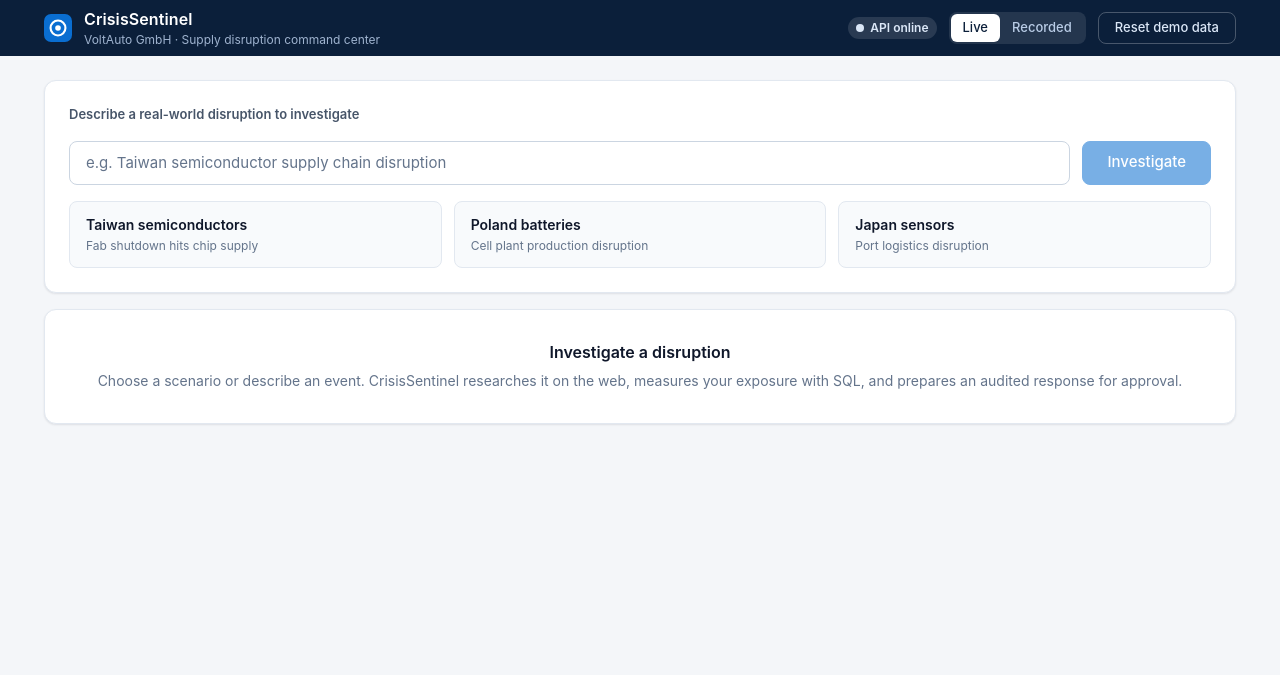
it: CrisisSentinel UI › approves exactly the plan's reroute actions, each as a (po, supplier) pair
Click the button "Recorded": coordinates (1042, 28) [1000,14,1084,42]
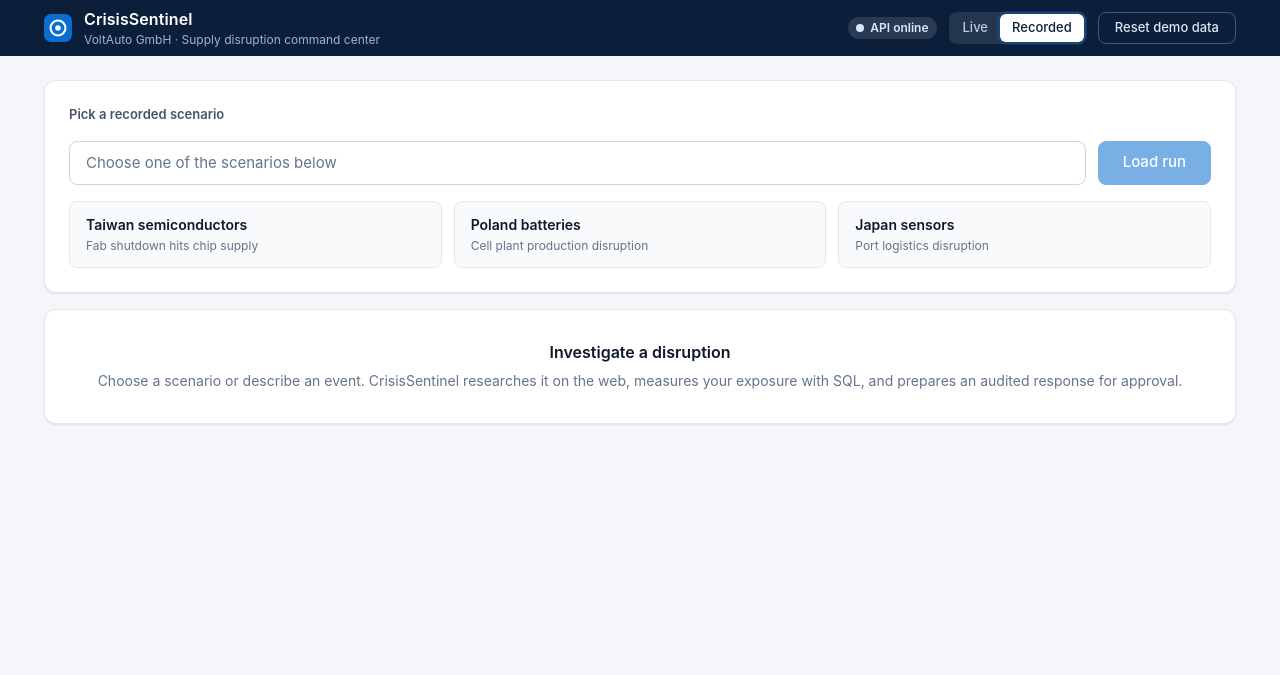
Click the button "Taiwan semiconductors Fab shutdown hits chip supply": coordinates (167, 224) [69,200,442,268]
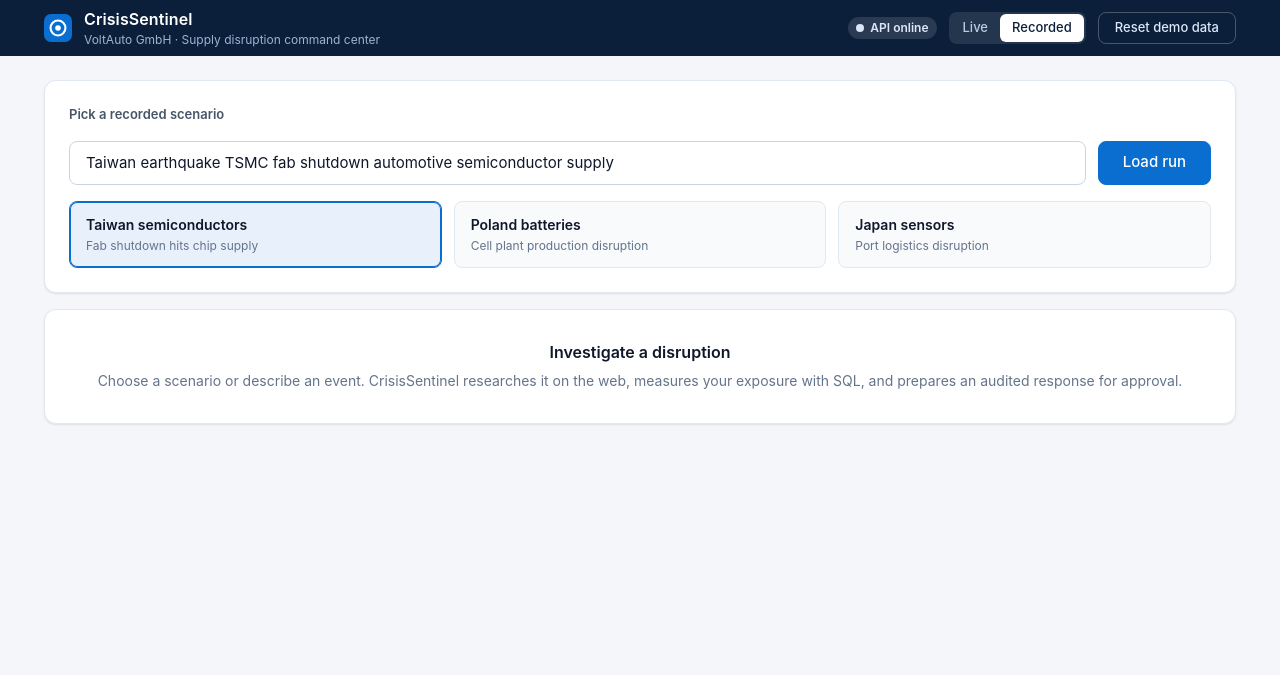
Click the button "Load run": coordinates (1154, 162) [1098,140,1211,184]
(page scrolled)
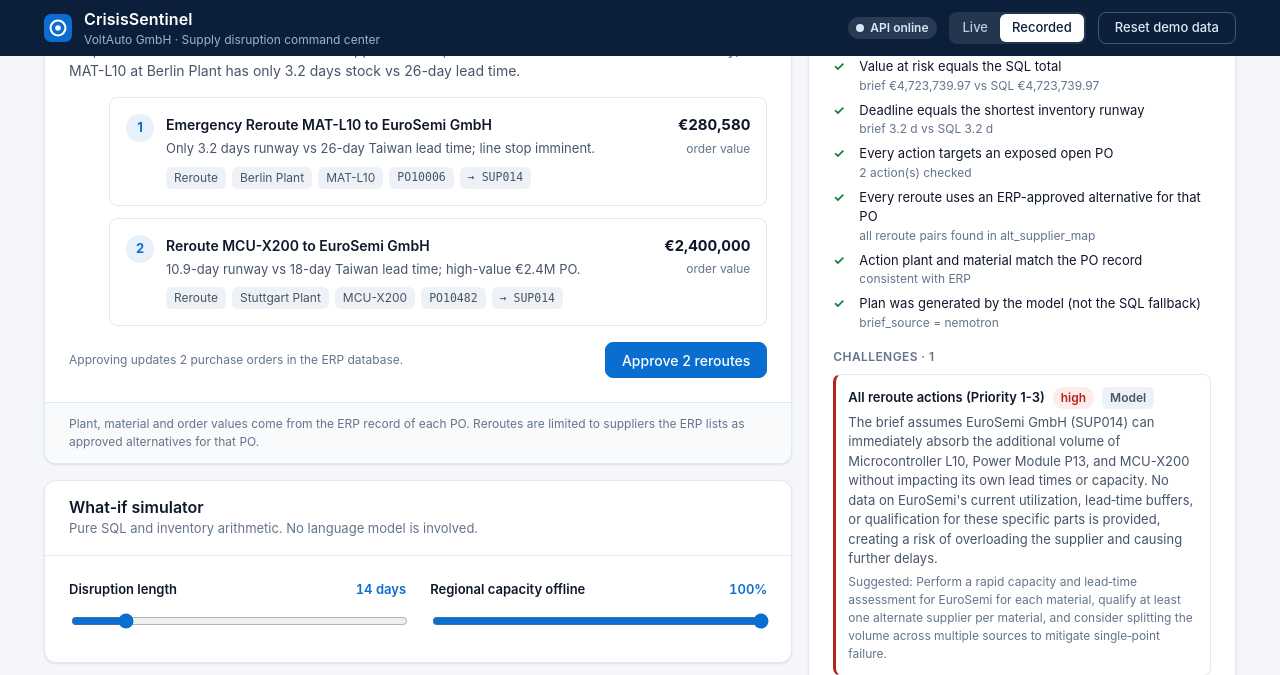
Click the button "Approve 2 reroutes": coordinates (686, 360) [605,342,767,378]
(page scrolled)
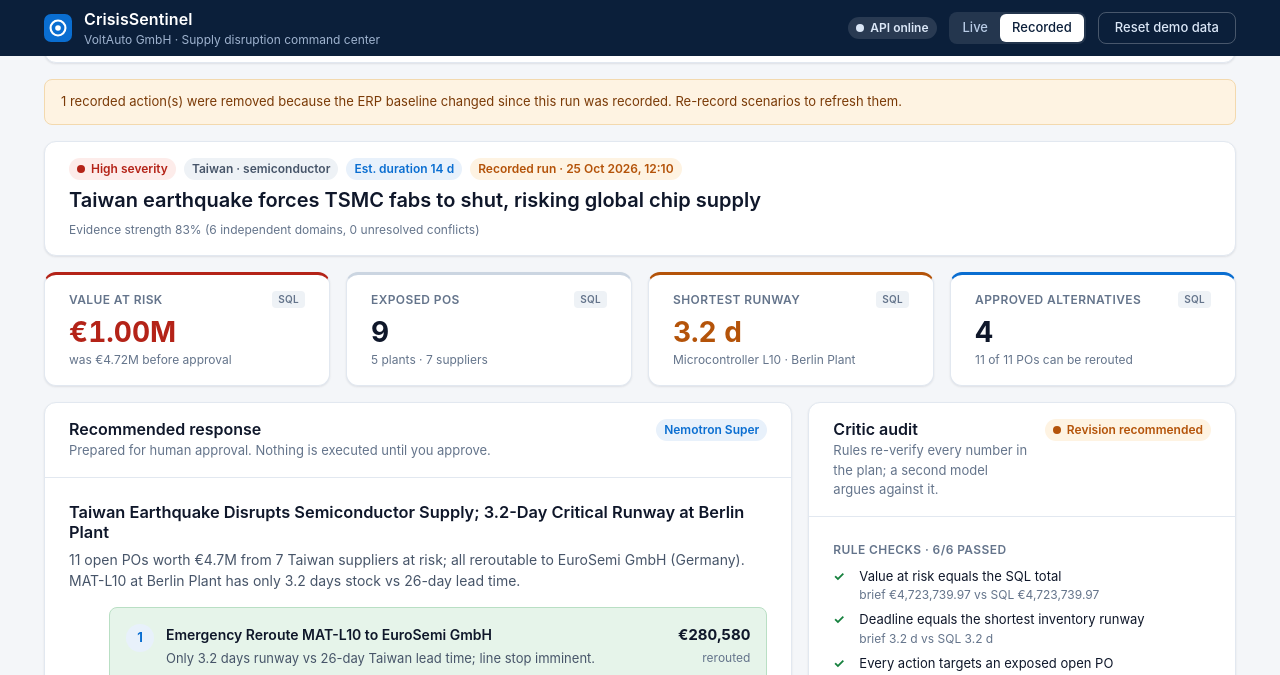
Check: the text "was €4.72M before approval" is shown, box [69,352,232,367]
